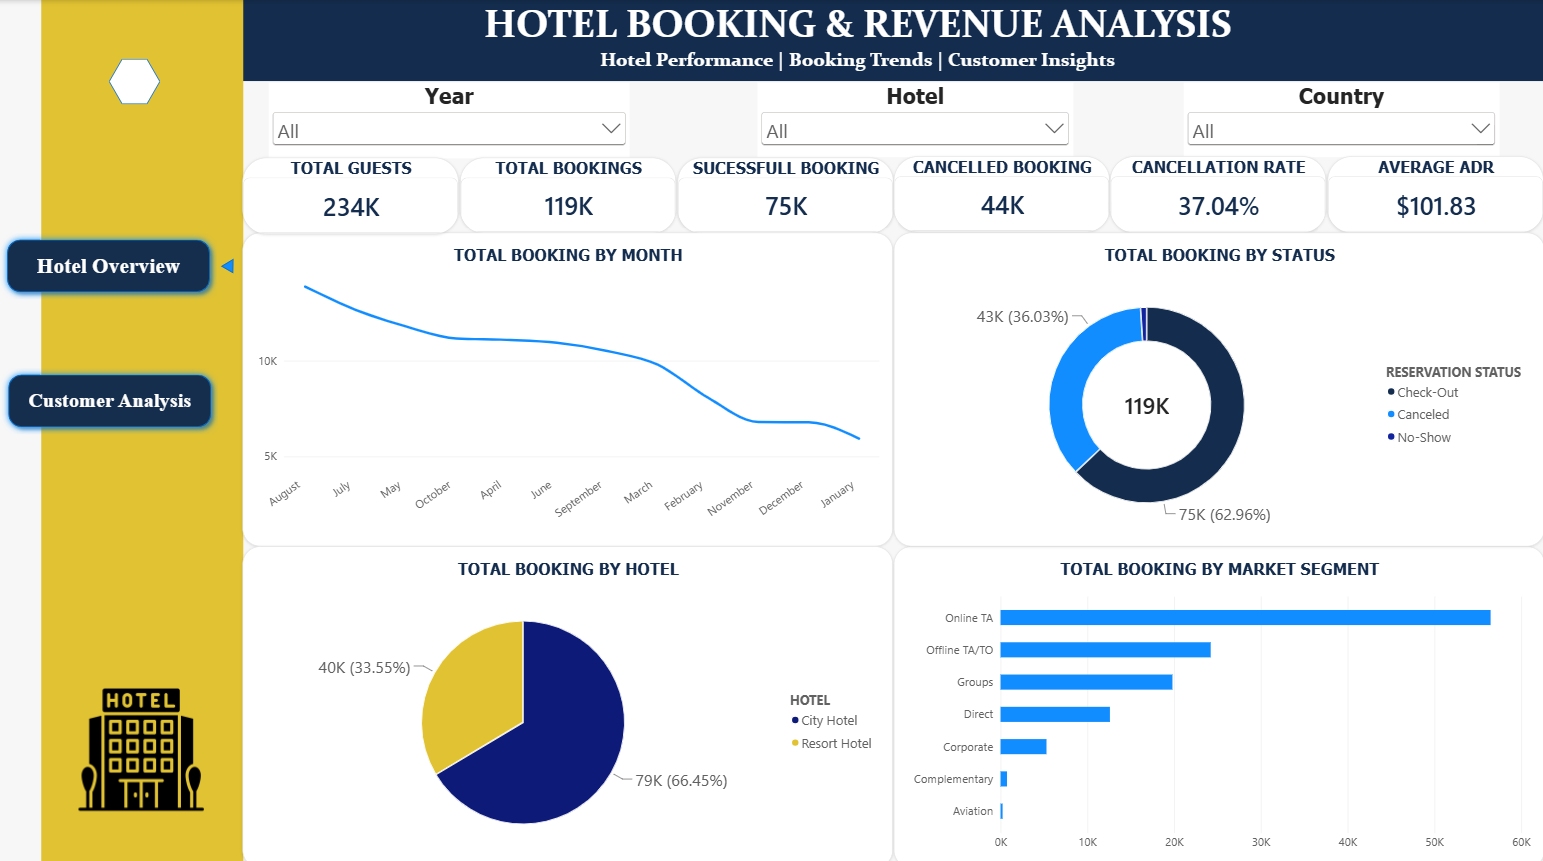

The page's visual inventory and layout, read from the dashboard file:
{"tool":"powerbi","page":{"name":"Hotel overview","canvas":[1920,1080],"ordinal":0},"visuals":[{"type":"textbox","box":[213.6,0,1707.2,100.8],"z":0},{"type":"slicer","title":"Year","fields":{"Values":["hotel_booking.arrival_date_year"]},"box":[334,101.9,449.1,94.3],"z":1000},{"type":"slicer","title":"Hotel","fields":{"Values":["hotel_booking.hotel"]},"box":[941.5,101.9,392.5,92.5],"z":2000},{"type":"slicer","title":"Country","fields":{"Values":["hotel_booking.Country"]},"box":[1471.7,101.9,392.5,92.5],"z":3000},{"type":"textbox","box":[50.9,0,250.9,1080],"z":4000},{"type":"shape","box":[0,288.7,269.8,83],"z":5000},{"type":"cardVisual","title":"TOTAL BOOKINGS","fields":{"Data":["hotel_booking.Total bookings"]},"box":[572.7,196.4,269,94.5],"z":6000},{"type":"shape","box":[135.8,73.6,64.2,56.6],"z":7000},{"type":"cardVisual","title":"SUCESSFULL BOOKING","fields":{"Data":["hotel_booking.Sucessfull booking"]},"box":[841.8,196.4,269,94.5],"z":9000},{"type":"cardVisual","title":"CANCELLED BOOKING","fields":{"Data":["hotel_booking.Cancelled booking"]},"box":[1110.9,194.5,269,94.5],"z":10000},{"type":"cardVisual","title":"CANCELLATION RATE","fields":{"Data":["hotel_booking.Cancellantion rate"]},"box":[1380,194.5,269,95],"z":11000},{"type":"cardVisual","title":"AVERAGE ADR","fields":{"Data":["hotel_booking.Average adr"]},"box":[1650.9,194.5,269,95],"z":12000},{"type":"lineChart","title":"TOTAL BOOKING BY MONTH","fields":{"Category":["hotel_booking.arrival_date_month"],"Y":["hotel_booking.Total bookings"]},"box":[301.9,288.7,809,390],"z":13000},{"type":"pieChart","title":"TOTAL BOOKING BY HOTEL","fields":{"Category":["hotel_booking.hotel"],"Y":["hotel_booking.Total bookings"]},"box":[301.8,680,809,400],"z":14000},{"type":"clusteredBarChart","title":"TOTAL BOOKING BY MARKET SEGMENT","fields":{"Category":["hotel_booking.market_segment"],"Y":["hotel_booking.Total bookings"]},"box":[1111.3,679.2,809.4,400],"z":15000},{"type":"donutChart","title":"TOTAL BOOKING BY STATUS","fields":{"Category":["hotel_booking.reservation_status"],"Y":["hotel_booking.Total bookings"]},"box":[1111.3,288.7,809.4,390.6],"z":16000},{"type":"shape","box":[1.9,456.6,269.8,83],"z":17000},{"type":"image","box":[96.4,838.2,158.2,189.1],"z":18000},{"type":"cardVisual","title":"TOTAL GUESTS","fields":{"Data":["Sum(hotel_booking.Total Guest)"]},"box":[301.8,196.4,269,95],"z":19000},{"type":"shape","box":[269.1,321.8,27.3,18.2],"z":19001}]}

Visuals, with their boxes in screenshot pixels (x1, y1, x2, y2), scaled from the page's 1920x1080 canvas onto the 1543x861 screenshot:
textbox: x1=172, y1=0, x2=1542, y2=80
"Year" slicer: x1=268, y1=81, x2=629, y2=156
"Hotel" slicer: x1=757, y1=81, x2=1072, y2=155
"Country" slicer: x1=1183, y1=81, x2=1498, y2=155
textbox: x1=41, y1=0, x2=243, y2=860
shape: x1=0, y1=230, x2=217, y2=296
"TOTAL BOOKINGS" cardVisual: x1=460, y1=157, x2=676, y2=232
shape: x1=109, y1=59, x2=161, y2=104
"SUCESSFULL BOOKING" cardVisual: x1=677, y1=157, x2=893, y2=232
"CANCELLED BOOKING" cardVisual: x1=893, y1=155, x2=1109, y2=230
"CANCELLATION RATE" cardVisual: x1=1109, y1=155, x2=1325, y2=231
"AVERAGE ADR" cardVisual: x1=1327, y1=155, x2=1542, y2=231
"TOTAL BOOKING BY MONTH" lineChart: x1=243, y1=230, x2=893, y2=541
"TOTAL BOOKING BY HOTEL" pieChart: x1=243, y1=542, x2=893, y2=860
"TOTAL BOOKING BY MARKET SEGMENT" clusteredBarChart: x1=893, y1=541, x2=1542, y2=860
"TOTAL BOOKING BY STATUS" donutChart: x1=893, y1=230, x2=1542, y2=542
shape: x1=2, y1=364, x2=218, y2=430
image: x1=77, y1=668, x2=205, y2=819
"TOTAL GUESTS" cardVisual: x1=243, y1=157, x2=459, y2=232
shape: x1=216, y1=257, x2=238, y2=271
